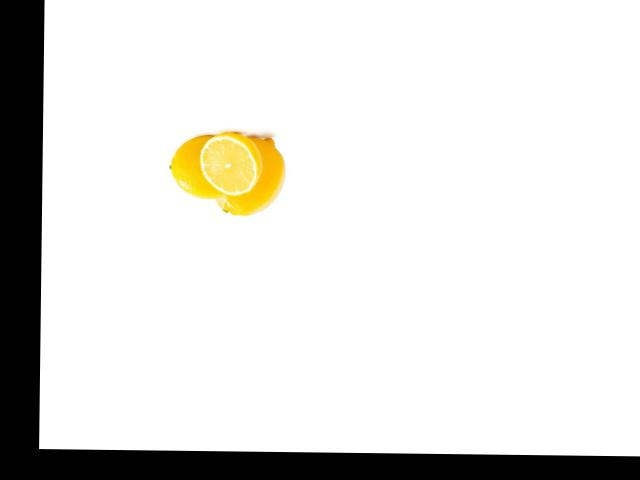lemon: (170, 132, 244, 201)
